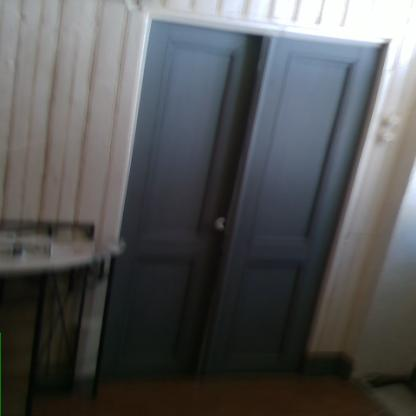closed: (115, 1, 396, 391)
